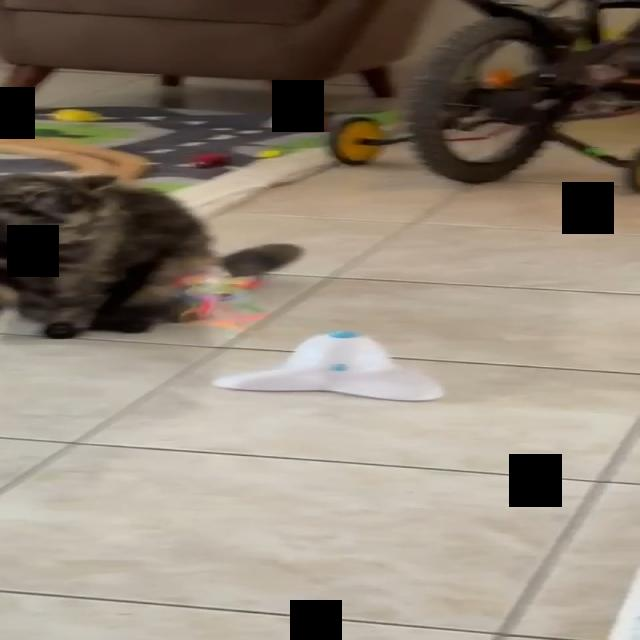authorized: (0, 171, 304, 339)
